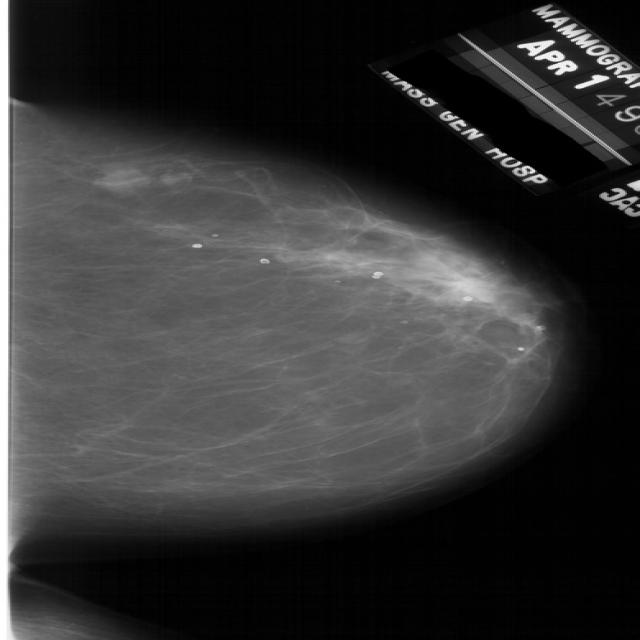tumour: (92, 166, 151, 194)
